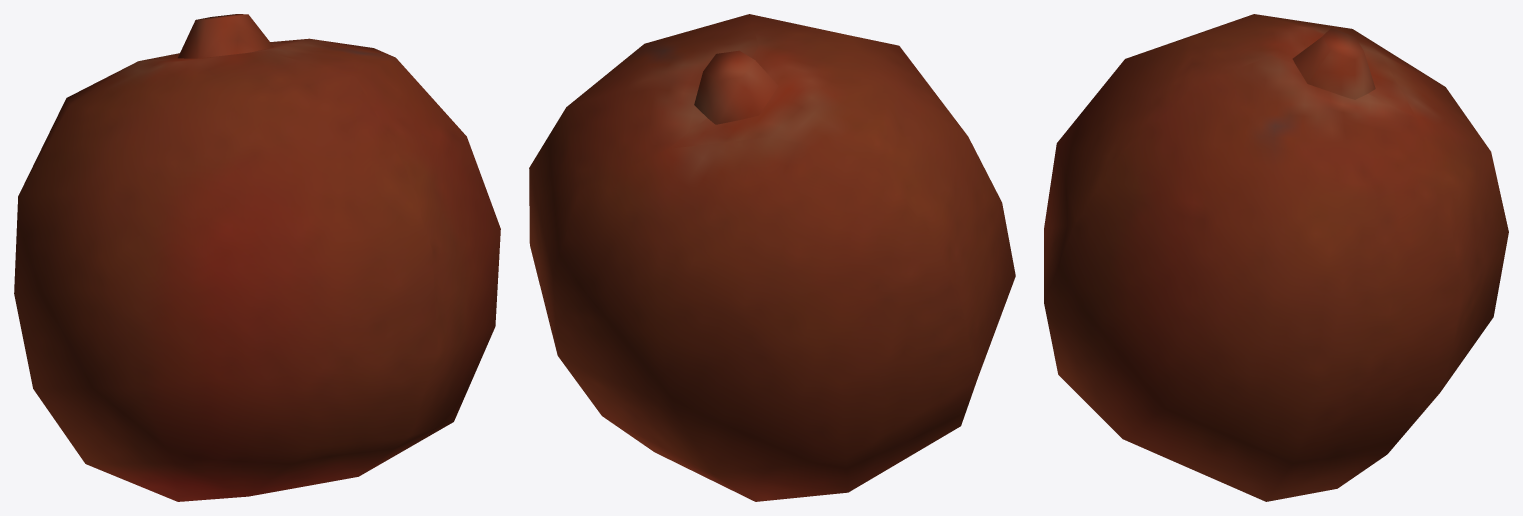
Rendered from SM_SP_FruitsPome01.fbx.
3 views of the same model, side by side, from view 1: azimuth 30°, elevation 25°; view 2: azimuth 150°, elevation 25°; view 3: azimuth 270°, elevation 25° (orthographic). The views are drawn at different scales.
Visible parts, largest first — view 1: SM_SP_FruitsPome01_LOD0; view 2: SM_SP_FruitsPome01_LOD0; view 3: SM_SP_FruitsPome01_LOD0.
Part boxes in pixels (left/top/right/bottom): SM_SP_FruitsPome01_LOD0: left=14, top=14, right=500, bottom=501; SM_SP_FruitsPome01_LOD0: left=529, top=14, right=1015, bottom=501; SM_SP_FruitsPome01_LOD0: left=1044, top=14, right=1508, bottom=501.
Size of the model in its own units: 10.05 by 9.45 by 9.64.
1 material, 1 textured.
